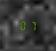seven: (27, 19, 34, 31)
zero: (19, 19, 26, 30)
